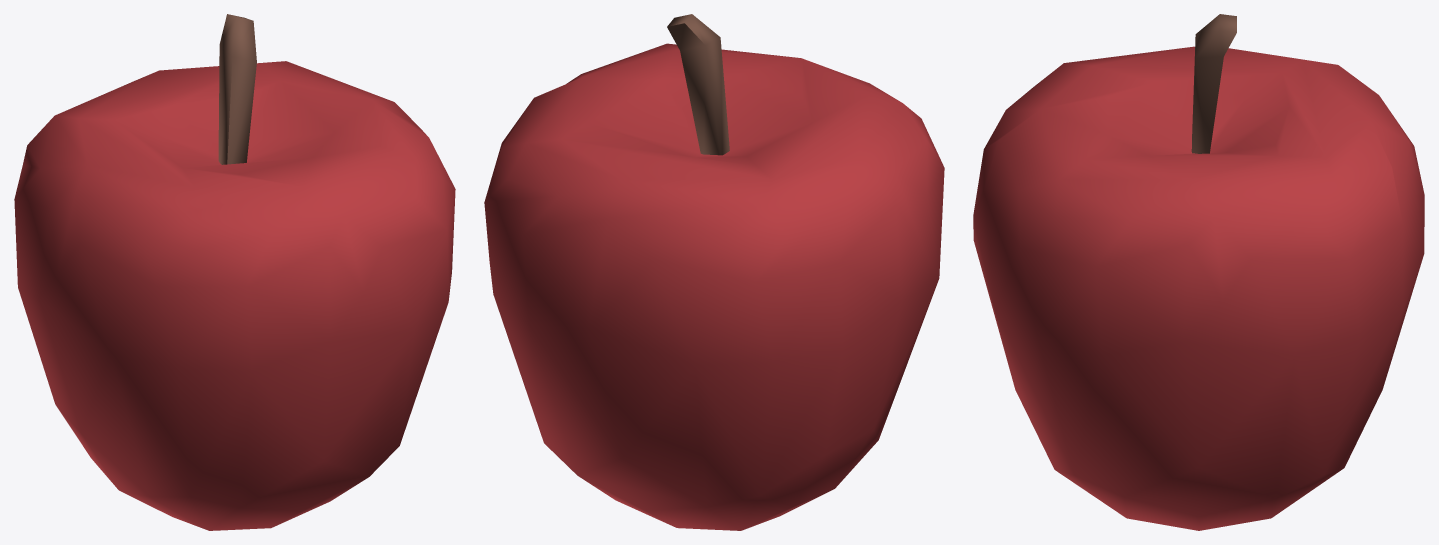
Rendered from green_13.glb.
The picture shows the model from 3 angles, left to right: view 1: azimuth 30°, elevation 25°; view 2: azimuth 150°, elevation 25°; view 3: azimuth 270°, elevation 25°; orthographic projection. The views are drawn at different scales.
Parts seen in each view (by area): view 1: green_13; view 2: green_13; view 3: green_13.
Boxes of the visible parts, box(x1,y1,x2,y2) form: green_13: box(14, 14, 455, 530); green_13: box(484, 14, 944, 530); green_13: box(973, 14, 1424, 530).
Size of the model in its own units: 0.1332 by 0.1642 by 0.1332.
Materials: 1 (1 with a texture image).
